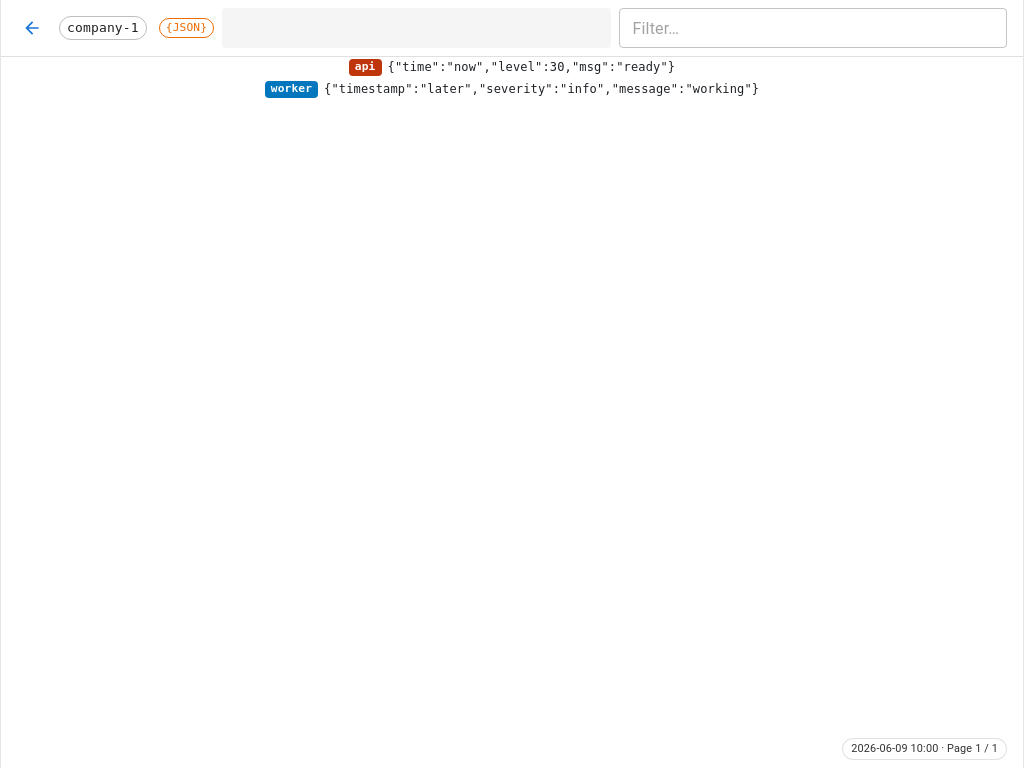
Test: IndexPanel JSON formatting › shows a back button for logs and returns to the index values
Click the button named "Back to index values". click: [32, 28]
box: [17,13,47,43]
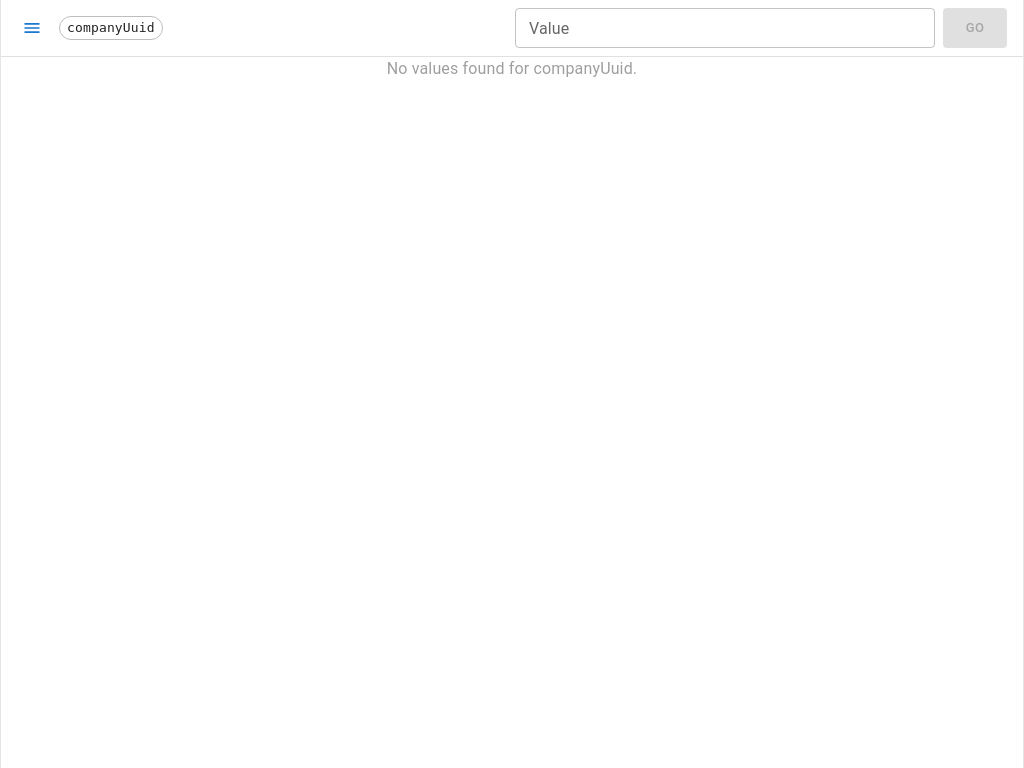
Check: the button named "Index actions" is shown, box [17,13,47,43]
